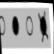correct: (11, 15, 19, 36)
not correct: (38, 8, 49, 44)
